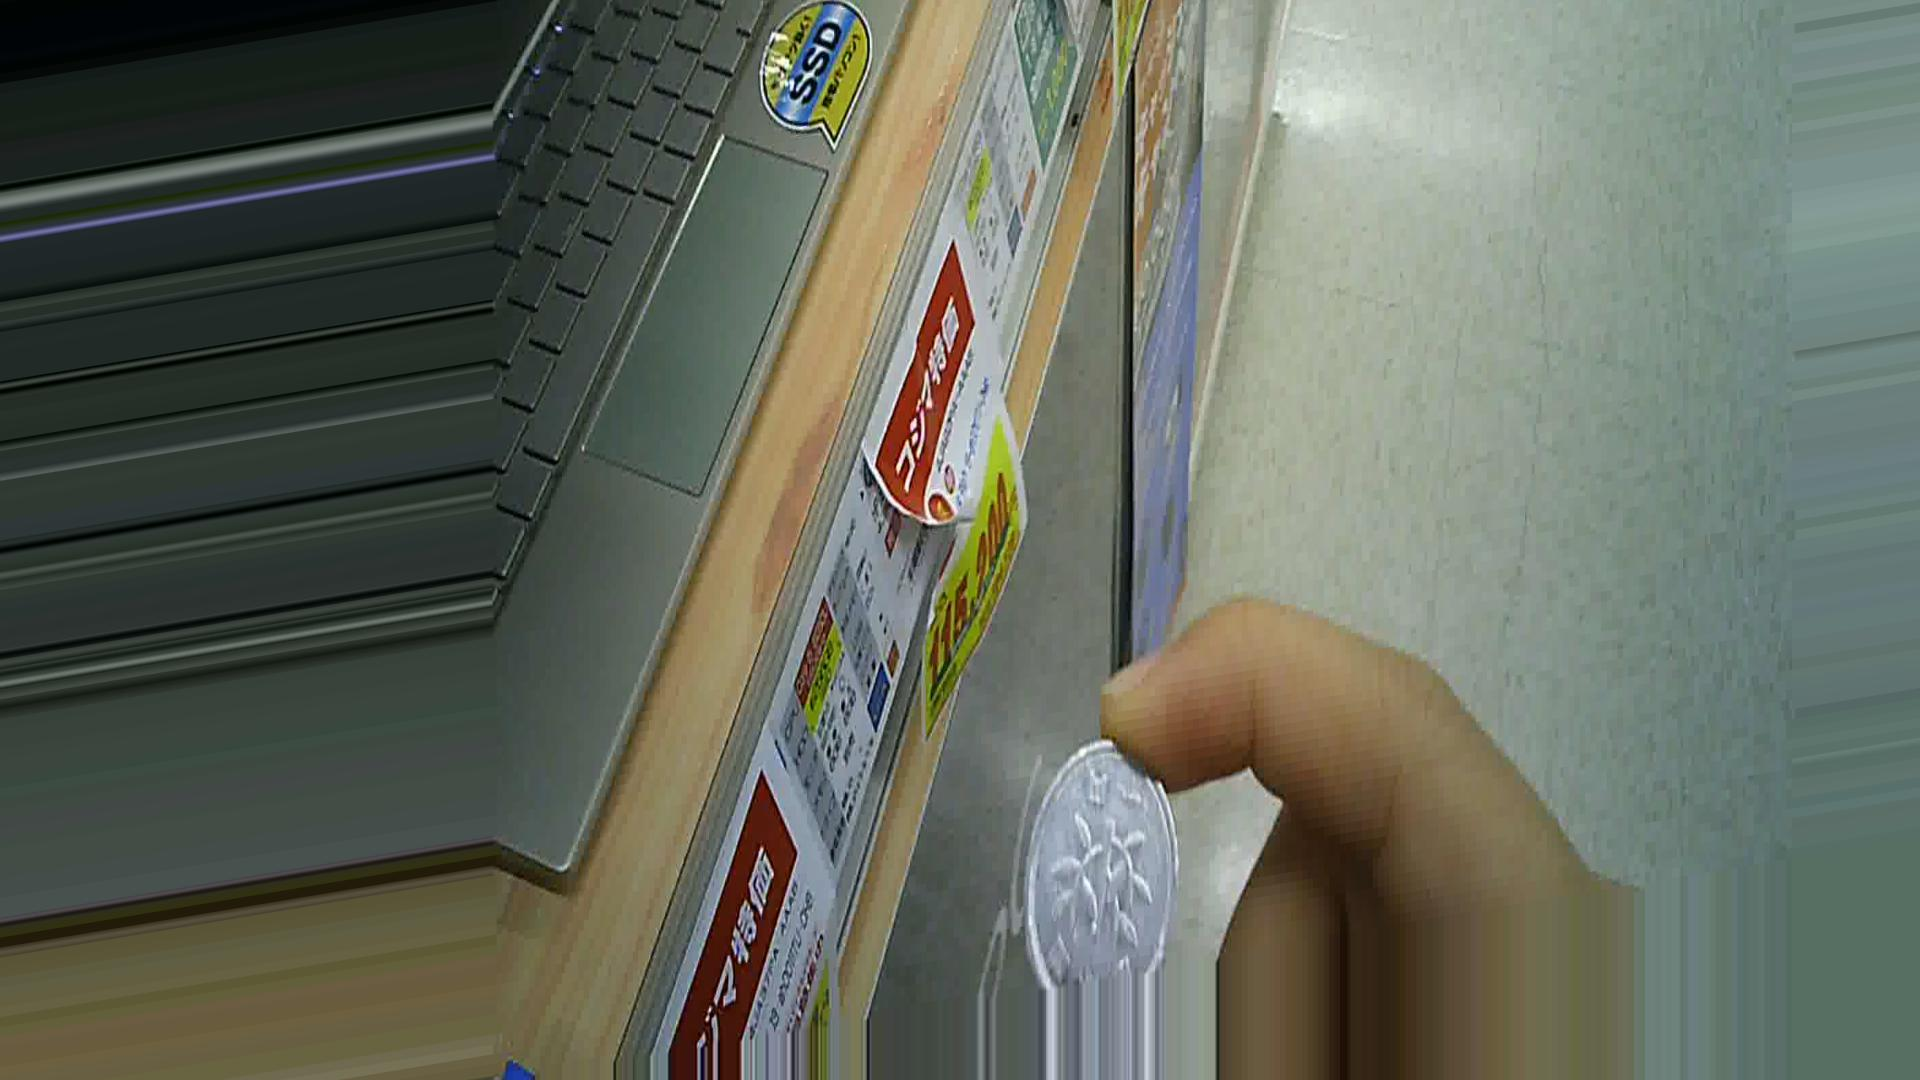1 Yen: (1011, 731, 1184, 996)
